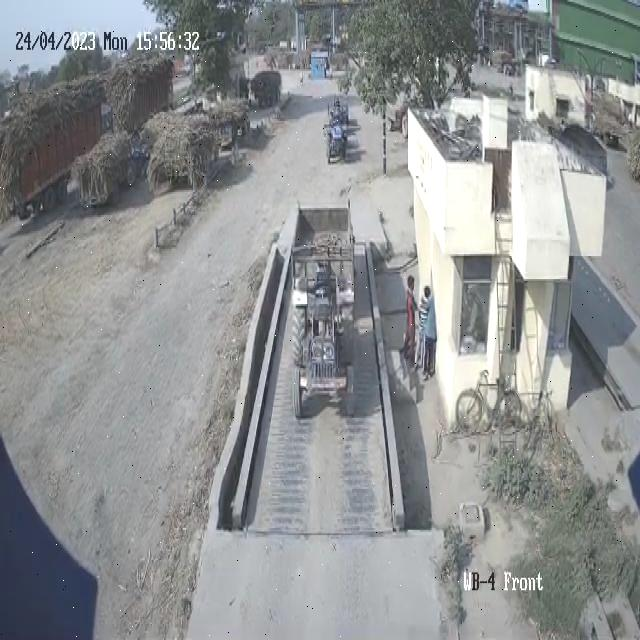Tratores - v5 YOLO V8L 2024-11-13: (290, 260, 360, 419), (324, 108, 352, 163)
